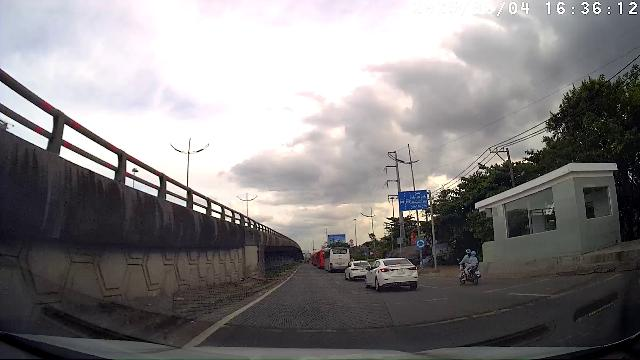303-noi-giao-nhau-chay-theo-vong-xuyen: (415, 239, 425, 249)
